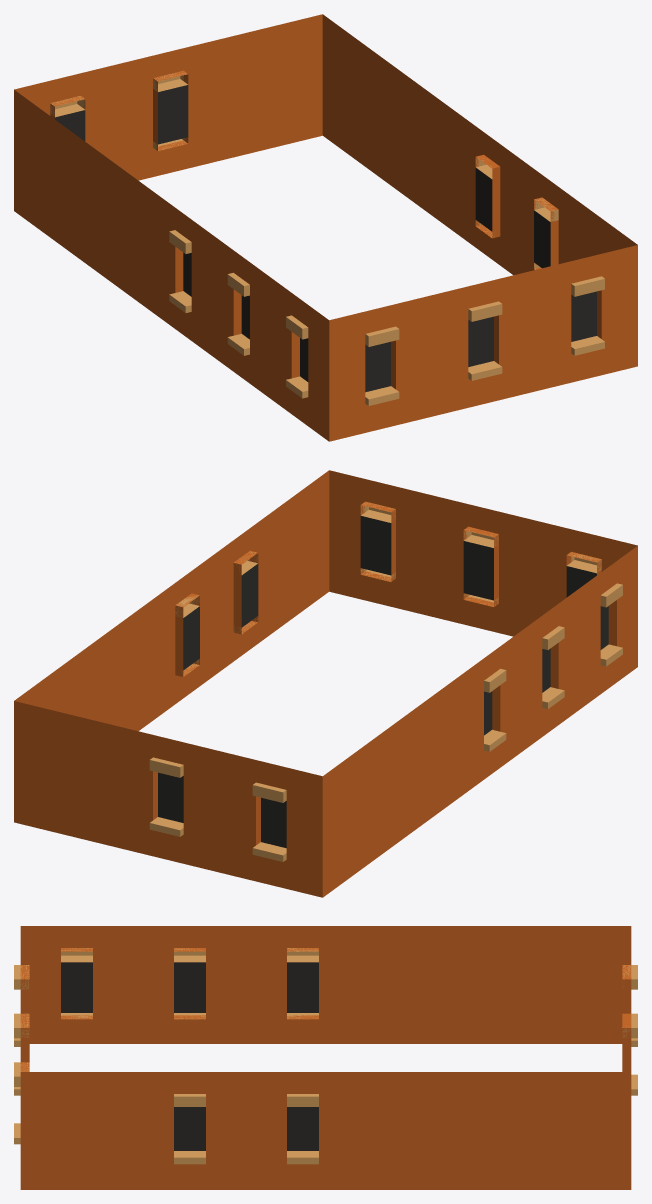
Rendered from building3_middle2.fbx.
The picture shows the model from 3 angles, top to bottom: view 1: azimuth 30°, elevation 25°; view 2: azimuth 150°, elevation 25°; view 3: azimuth 270°, elevation 25°; orthographic projection. The views are drawn at different scales.
Parts seen in each view (by area): view 1: building3_middle2; view 2: building3_middle2; view 3: building3_middle2.
Boxes of the visible parts, x1,y1,x2,y2 form: building3_middle2: (14,14,637,441); building3_middle2: (14,470,637,897); building3_middle2: (14,926,637,1189).
Bounding box in the file's own units: 690 × 250 × 1201.
